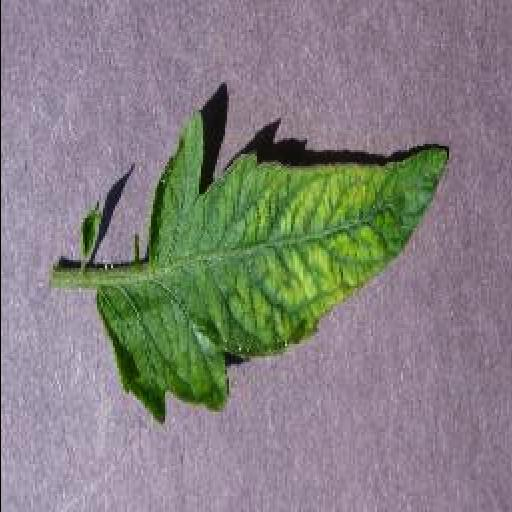Mosaic Virus: (95, 108, 453, 426)
